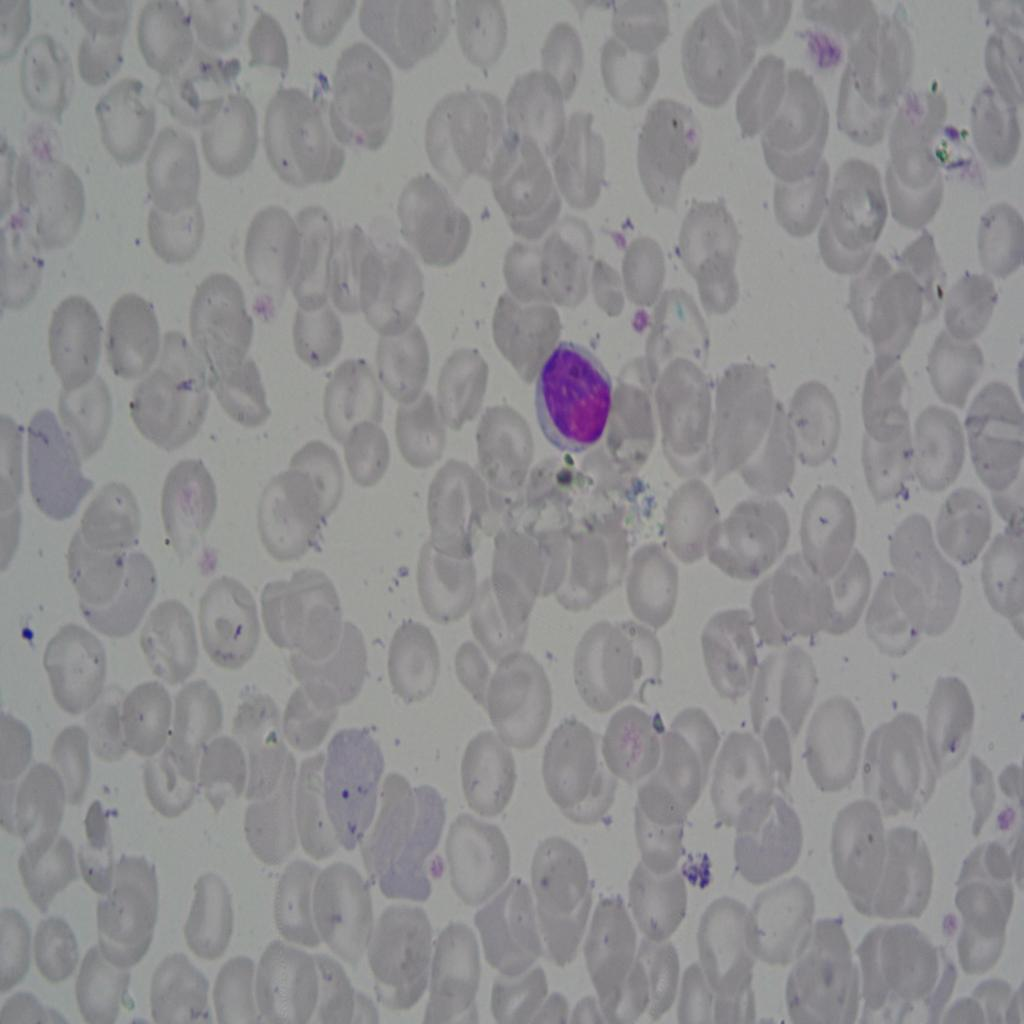Myeoblast: (530, 322, 617, 469)
Platelet: (628, 301, 674, 352)
